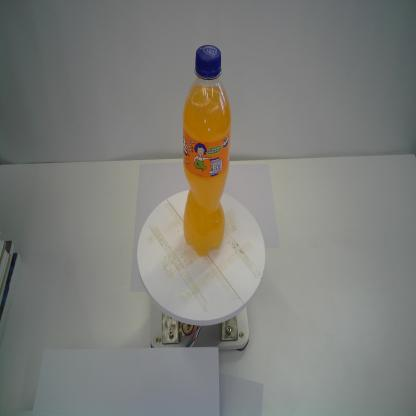Drink: (180, 43, 233, 260)
